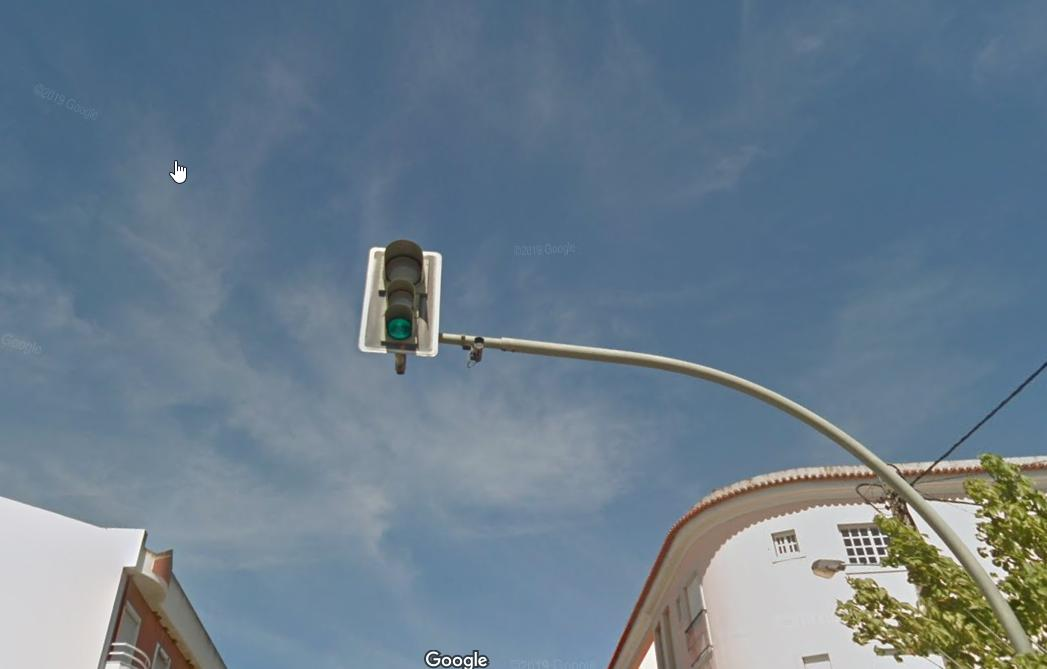green_light: (358, 239, 444, 356)
